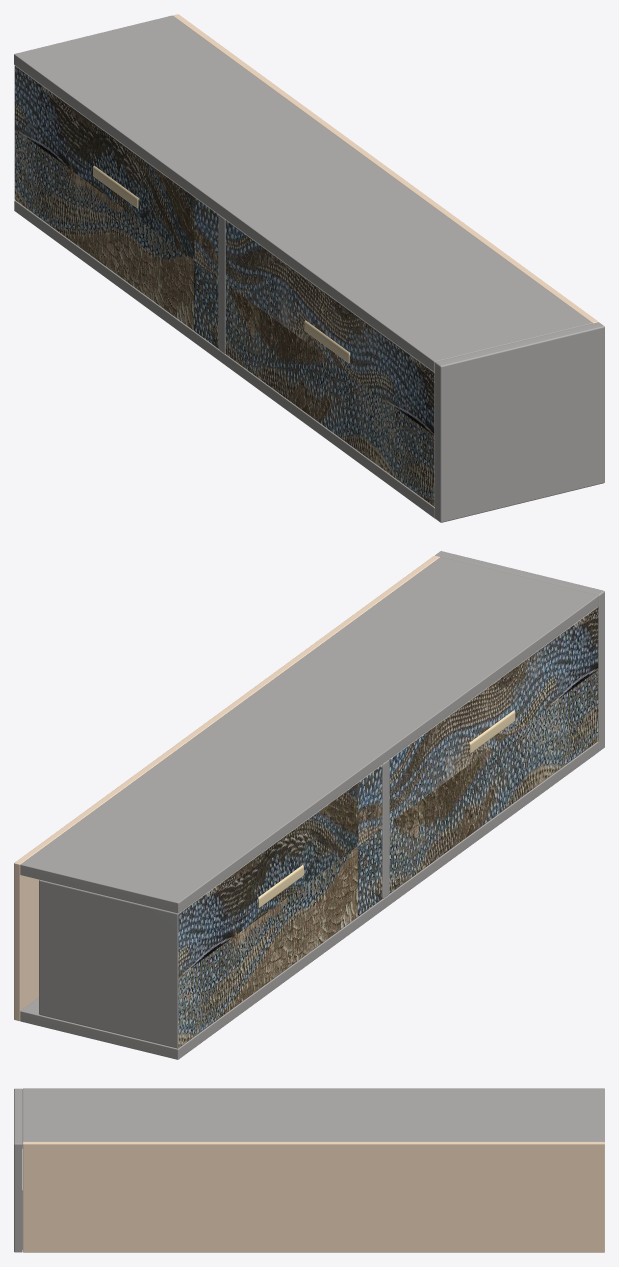
The picture shows the model from 3 angles, top to bottom: view 1: azimuth 30°, elevation 25°; view 2: azimuth 150°, elevation 25°; view 3: azimuth 270°, elevation 25°; orthographic projection. The views are drawn at different scales.
Parts seen in each view (by area): view 1: panel_horizontal.001, panel_back.002, pannel.001, panel_back.001, panel_door_handle.002; view 2: panel_horizontal.001, panel_back.002, panel_back.001, pannel.001, panel_door_handle.002; view 3: panel_back.001, panel_horizontal.001, pannel.001.
Boxes of the visible parts, x1=… form: panel_horizontal.001: x1=14, y1=15, x2=592, y2=518; panel_back.002: x1=14, y1=65, x2=434, y2=506; pannel.001: x1=219, y1=215, x2=604, y2=522; panel_back.001: x1=173, y1=14, x2=598, y2=323; panel_door_handle.002: x1=93, y1=165, x2=349, y2=362; panel_horizontal.001: x1=20, y1=557, x2=598, y2=1059; panel_back.002: x1=39, y1=606, x2=598, y2=1048; panel_back.001: x1=14, y1=555, x2=439, y2=1021; pannel.001: x1=382, y1=551, x2=604, y2=898; panel_door_handle.002: x1=258, y1=710, x2=515, y2=907; panel_back.001: x1=23, y1=1142, x2=604, y2=1252; panel_horizontal.001: x1=22, y1=1088, x2=604, y2=1249; pannel.001: x1=14, y1=1088, x2=22, y2=1252.
Bounding box in the file's own units: 0.4021 × 0.3645 × 1.79.
4 materials, 1 textured.
